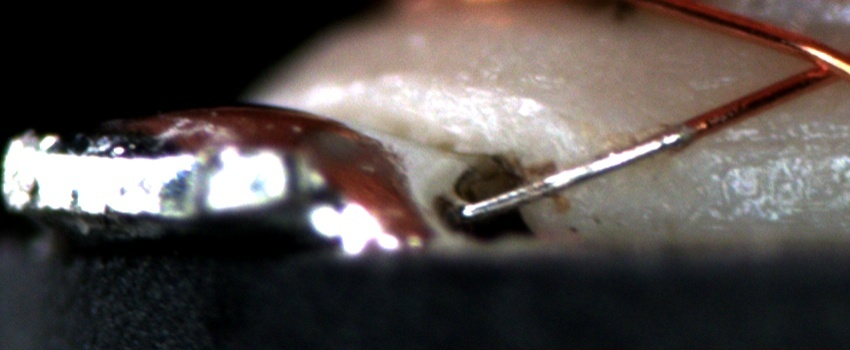CL: (780, 36, 847, 91)
DL: (688, 115, 850, 179)
TS: (461, 124, 691, 219)
